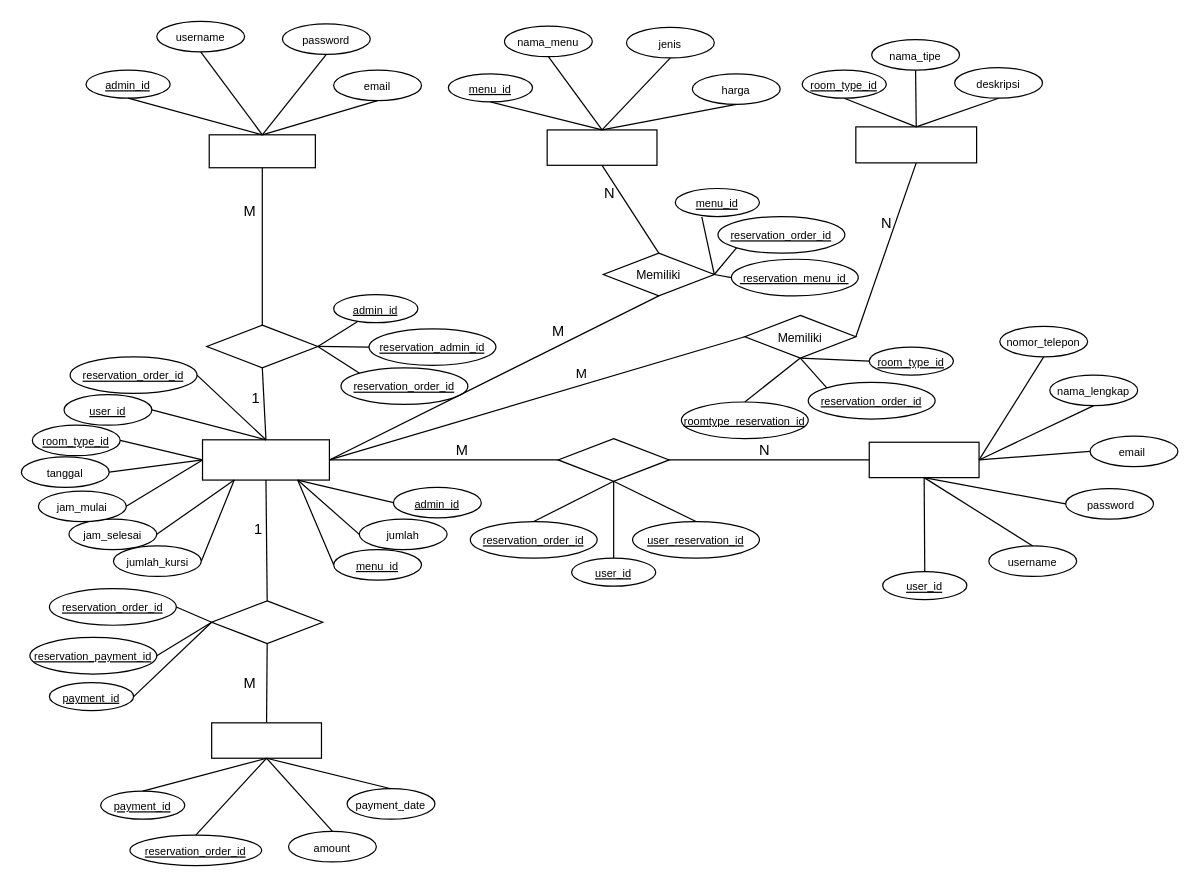
This 1199x887 diagram has some shape labels left out. The box of each missing label's shape, as (x1, y1, x2, y2) in pixels:
Admin: (208, 134, 315, 168)
Mengelola: (206, 324, 318, 368)
Menu: (546, 129, 657, 165)
Payment: (210, 722, 321, 758)
Pemesanan: (557, 437, 669, 481)
ReservationOrder: (201, 439, 329, 480)
RoomType: (855, 126, 977, 163)
Transaksi: (210, 600, 323, 644)
User: (868, 441, 979, 478)
